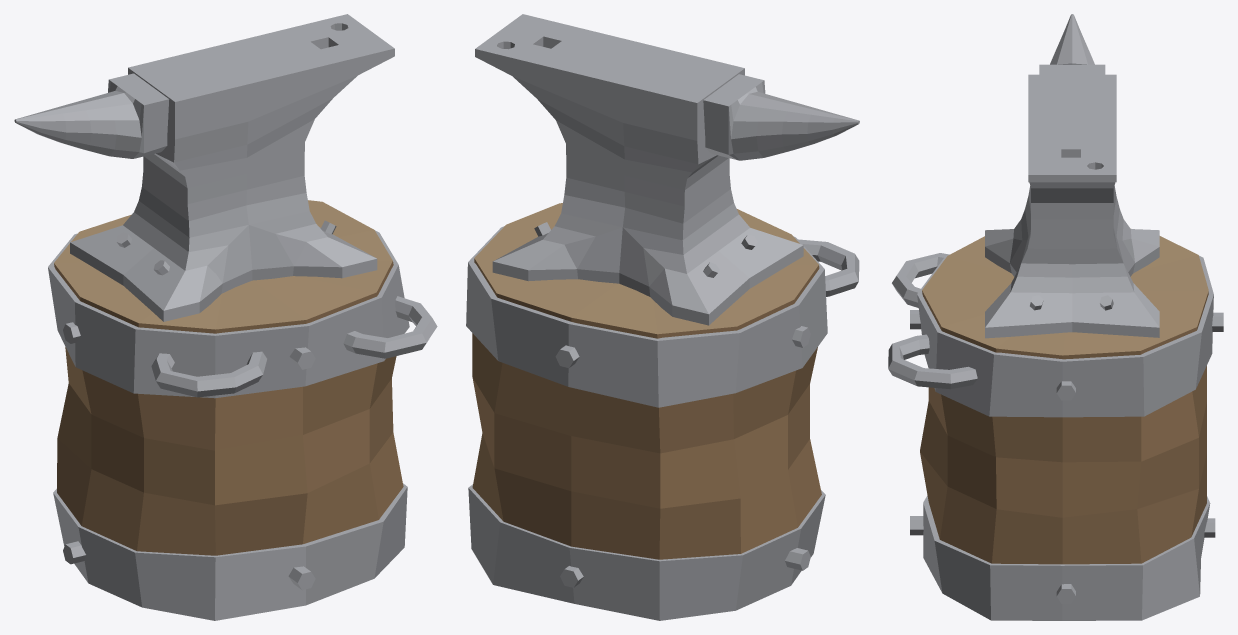
The model's file is anvil.glb.
3 renders of one model, left to right at view 1: azimuth 30°, elevation 25°; view 2: azimuth 150°, elevation 25°; view 3: azimuth 270°, elevation 25°, orthographic. The views are drawn at different scales.
Parts seen in each view (by area): view 1: Anvil.001; view 2: Anvil.001; view 3: Anvil.001.
Part boxes in pixels (left/top/right/bottom): Anvil.001: left=14, top=14, right=437, bottom=620; Anvil.001: left=466, top=14, right=859, bottom=620; Anvil.001: left=888, top=14, right=1223, bottom=620.
Bounding box in the file's own units: 0.5821 × 0.7342 × 0.495.
